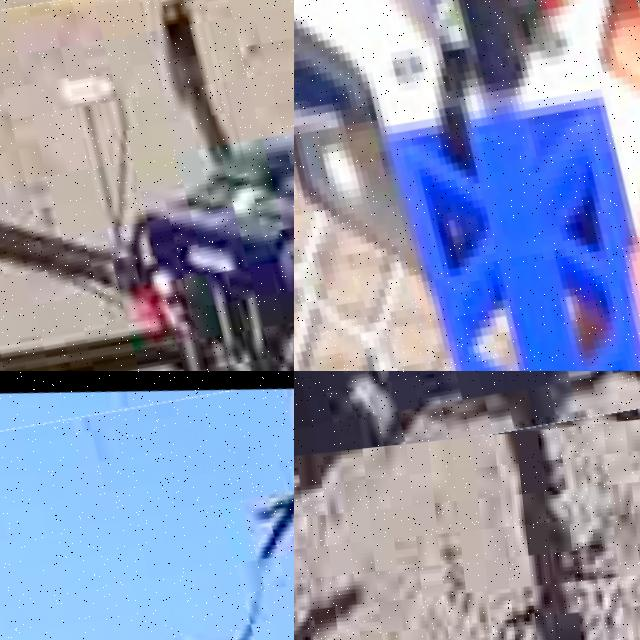drone: (294, 0, 640, 371), (0, 0, 294, 371), (0, 371, 294, 640), (294, 371, 640, 482)
